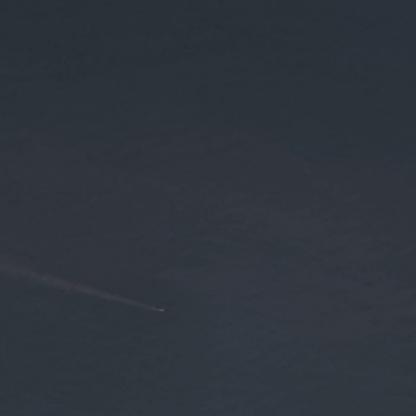ship: (156, 288, 167, 296)
